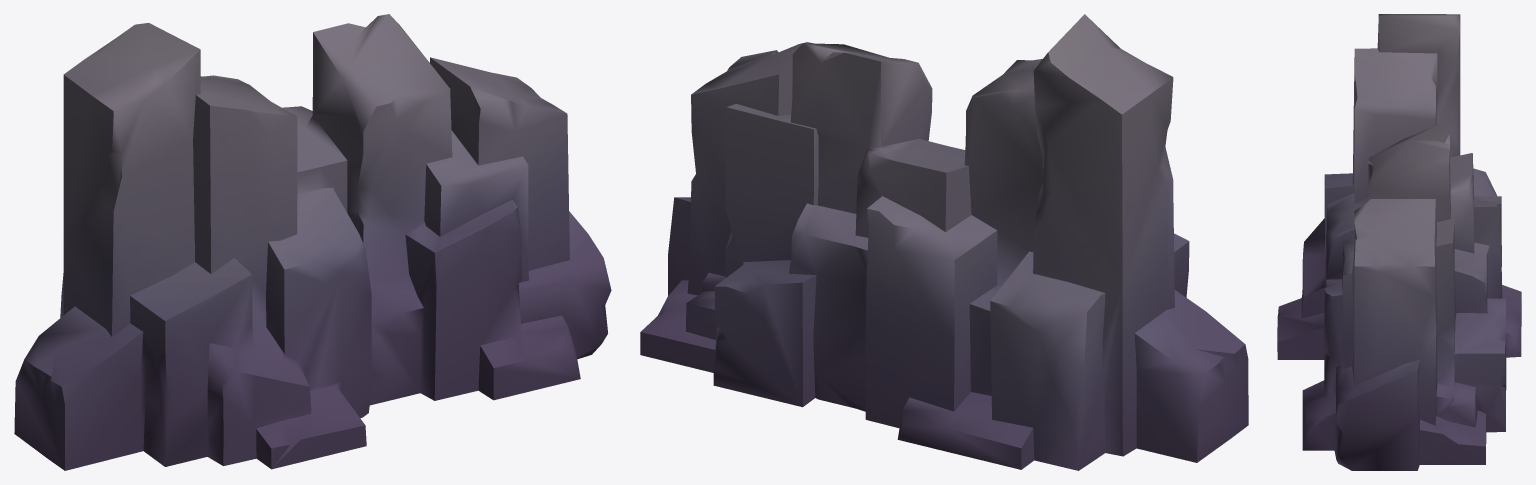
The model's file is rockpile_squre.001.fbx.
3 renders of one model, left to right at view 1: azimuth 30°, elevation 25°; view 2: azimuth 150°, elevation 25°; view 3: azimuth 270°, elevation 25°, orthographic. The views are drawn at different scales.
Visible parts, largest first — view 1: rockpile_squre.001_LOD0; view 2: rockpile_squre.001_LOD0; view 3: rockpile_squre.001_LOD0.
Part boxes in pixels (x1,y1,x2,y2): rockpile_squre.001_LOD0: (14,14,611,470); rockpile_squre.001_LOD0: (640,14,1248,470); rockpile_squre.001_LOD0: (1277,14,1521,470).
Size of what is drawn, in the model's own units: 406 by 274 by 200.
